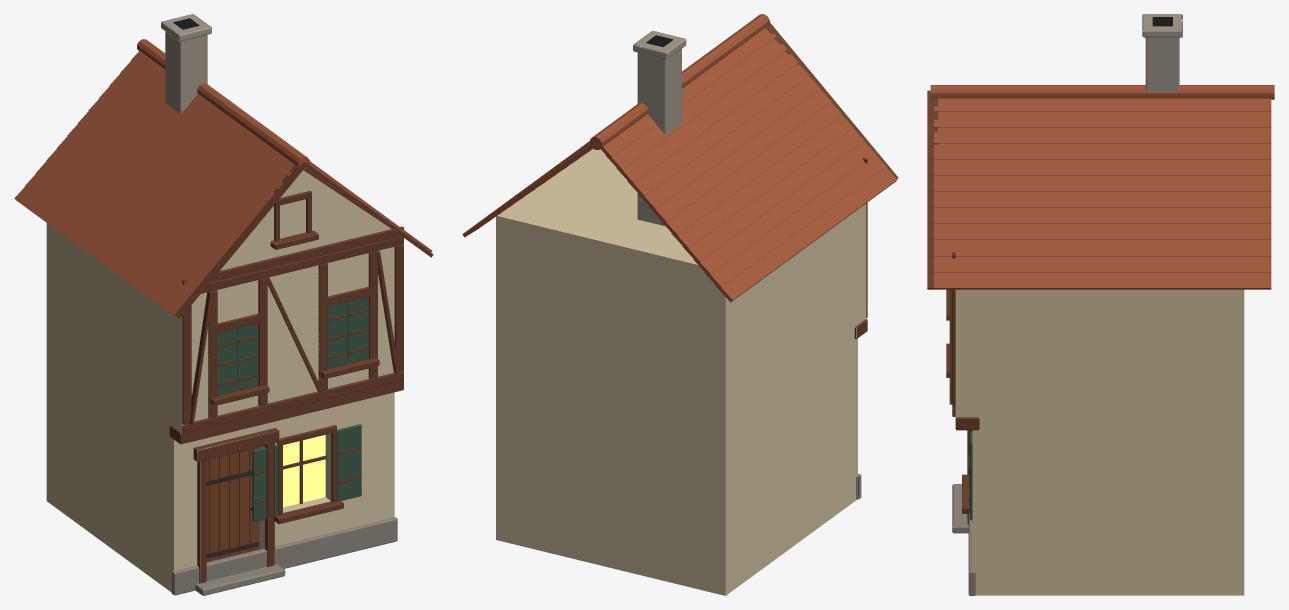
File: casa_4x4_ligero.glb
3 renders of one model, left to right at view 1: azimuth 30°, elevation 25°; view 2: azimuth 150°, elevation 25°; view 3: azimuth 270°, elevation 25°, orthographic. The views are drawn at different scales.
Parts seen in each view (by area): view 1: casa_4x4_pb_dentro, casa_4x4_pa_dentro, casa_4x4_pb.005, casa_4x4_pa.003, casa_4x4_hastial, casa_4x4_zocalo, casa_4x4_pb, casa_4x4_tejado_-1_0, casa_4x4_tejado_-1_3, casa_4x4_tejado_-1_4, casa_4x4_tejado_-1_1, casa_4x4_tejado_-1_2 (+50 smaller); view 2: casa_4x4_pb_dentro, casa_4x4_pa_dentro, casa_4x4_tejado_-1_0, casa_4x4_tejado_-1_4, casa_4x4_tejado_-1_5, casa_4x4_tejado_-1_6, casa_4x4_tejado_-1_7, casa_4x4_tejado_-1_3, casa_4x4_tejado_-1_1, casa_4x4_tejado_-1_8, casa_4x4_tejado_-1_9, casa_4x4_tejado_-1_2 (+8 smaller); view 3: casa_4x4_pb_dentro, casa_4x4_pa_dentro, casa_4x4_tejado_1_0, casa_4x4_tejado_1_5, casa_4x4_tejado_1_6, casa_4x4_tejado_1_7, casa_4x4_tejado_1_1, casa_4x4_tejado_1_8, casa_4x4_tejado_1_2, casa_4x4_tejado_1_9, casa_4x4_tejado_1_10, casa_4x4_tejado_1_3 (+12 smaller).
Boxes of the visible parts, <box> form: casa_4x4_pb_dentro: <box>46,334,164,587</box>; casa_4x4_pa_dentro: <box>46,223,173,426</box>; casa_4x4_pb.005: <box>325,392,394,532</box>; casa_4x4_pa.003: <box>258,265,319,405</box>; casa_4x4_hastial: <box>220,170,390,270</box>; casa_4x4_zocalo: <box>171,517,397,595</box>; casa_4x4_pb: <box>164,420,204,591</box>; casa_4x4_tejado_-1_0: <box>14,186,187,316</box>; casa_4x4_tejado_-1_3: <box>46,149,219,276</box>; casa_4x4_tejado_-1_4: <box>56,136,229,264</box>; casa_4x4_tejado_-1_1: <box>25,174,197,301</box>; casa_4x4_tejado_-1_2: <box>35,161,208,289</box>; casa_4x4_pb_dentro: <box>496,332,848,595</box>; casa_4x4_pa_dentro: <box>496,149,857,421</box>; casa_4x4_tejado_-1_0: <box>715,167,897,302</box>; casa_4x4_tejado_-1_4: <box>671,115,853,249</box>; casa_4x4_tejado_-1_5: <box>660,102,842,236</box>; casa_4x4_tejado_-1_6: <box>649,89,831,223</box>; casa_4x4_tejado_-1_7: <box>638,76,820,209</box>; casa_4x4_tejado_-1_3: <box>682,128,864,262</box>; casa_4x4_tejado_-1_1: <box>704,154,886,288</box>; casa_4x4_tejado_-1_8: <box>627,64,809,197</box>; casa_4x4_tejado_-1_9: <box>616,51,798,184</box>; casa_4x4_tejado_-1_2: <box>693,141,875,274</box>; casa_4x4_pb_dentro: <box>993,417,1244,595</box>; casa_4x4_pa_dentro: <box>972,289,1244,417</box>; casa_4x4_tejado_1_0: <box>934,272,1271,289</box>; casa_4x4_tejado_1_5: <box>934,191,1271,207</box>; casa_4x4_tejado_1_6: <box>934,175,1271,191</box>; casa_4x4_tejado_1_7: <box>934,159,1271,175</box>; casa_4x4_tejado_1_1: <box>934,256,1271,272</box>; casa_4x4_tejado_1_8: <box>934,143,1271,159</box>; casa_4x4_tejado_1_2: <box>934,240,1271,256</box>; casa_4x4_tejado_1_9: <box>934,127,1271,143</box>; casa_4x4_tejado_1_10: <box>934,111,1271,127</box>; casa_4x4_tejado_1_3: <box>934,224,1271,239</box>.
Size of the model in its own units: 4.72 by 8.33 by 5.12.
